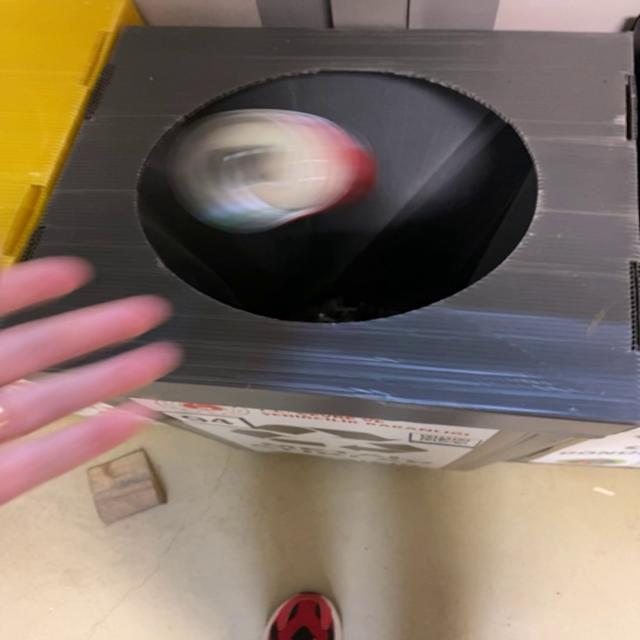Bin: (9, 26, 639, 470)
Metal: (167, 108, 375, 233)
